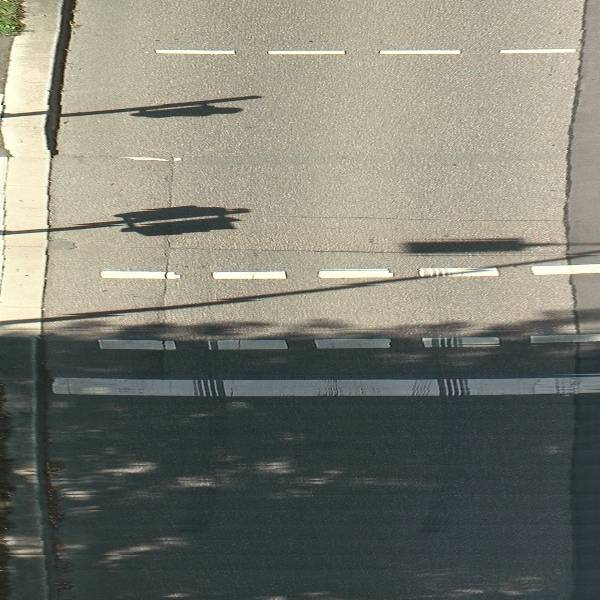road_damage: (37, 146, 188, 342), (161, 250, 565, 257)
